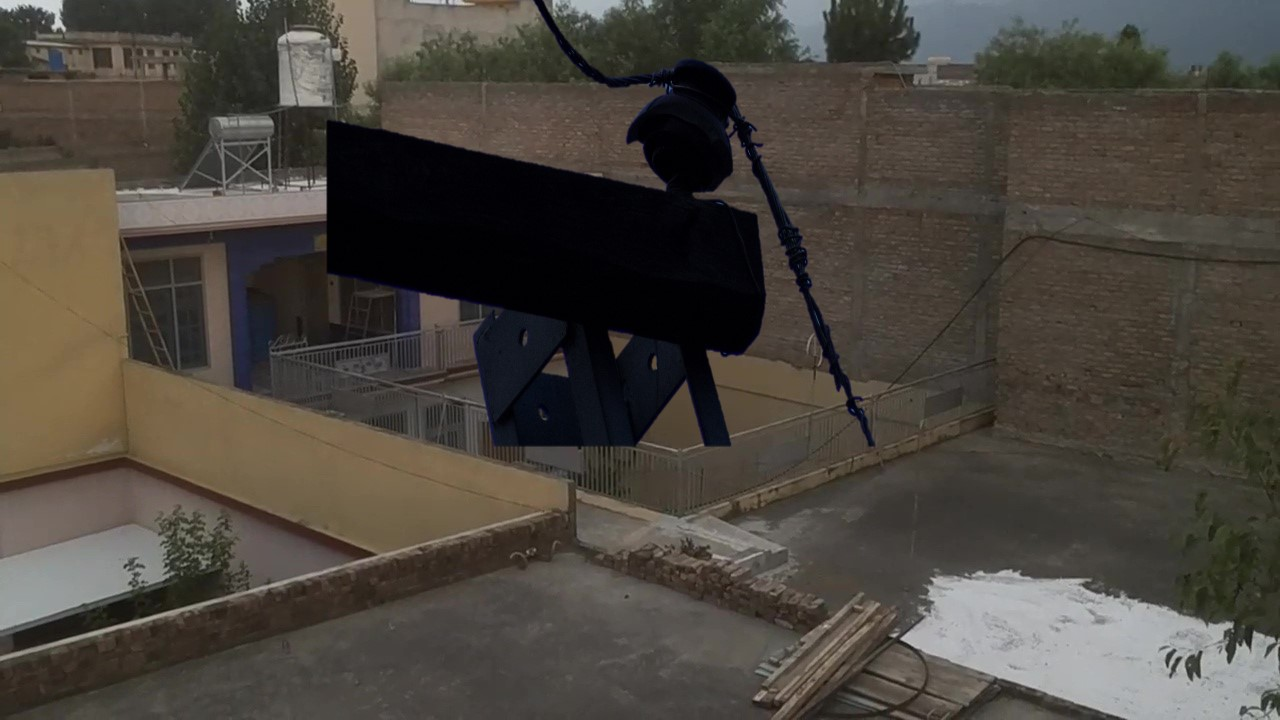defect_pin: (621, 52, 747, 195)
